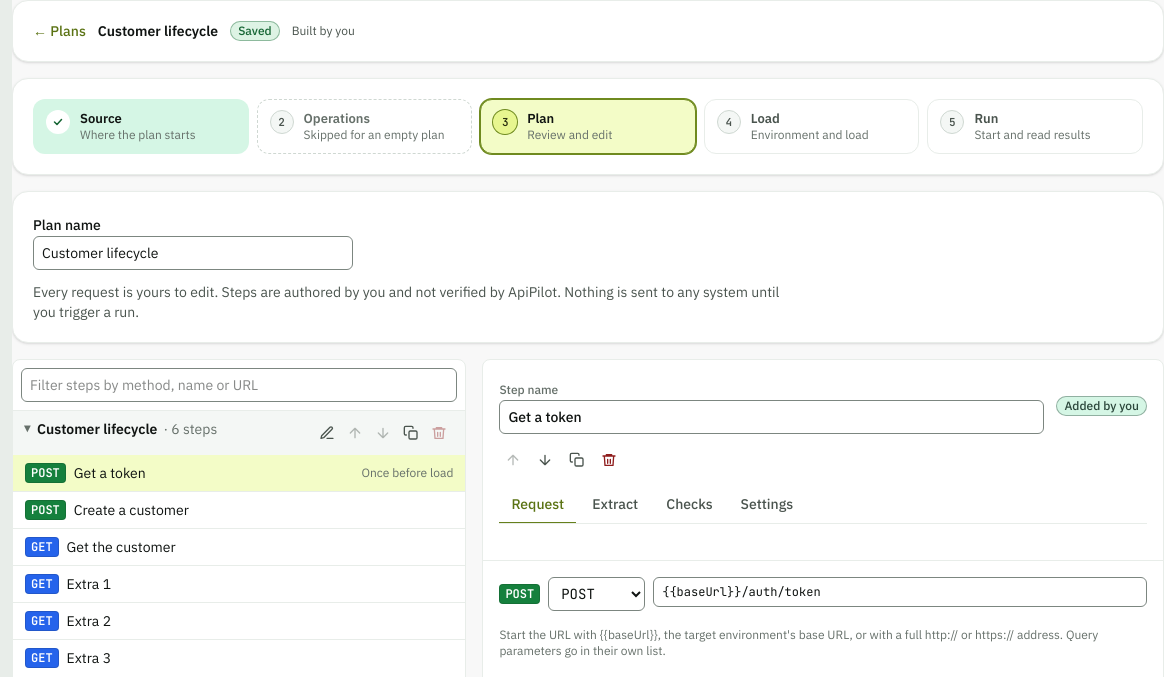
Scenario: the plan's chains on the Plan step › filters a long plan by method, name or URL
Expected: the field labelled "Plan name" is shown, left=33, top=236, right=353, bottom=270
In the search field labelled "Filter steps": (239, 385) left=21, top=368, right=457, bottom=402, type "extra/2"
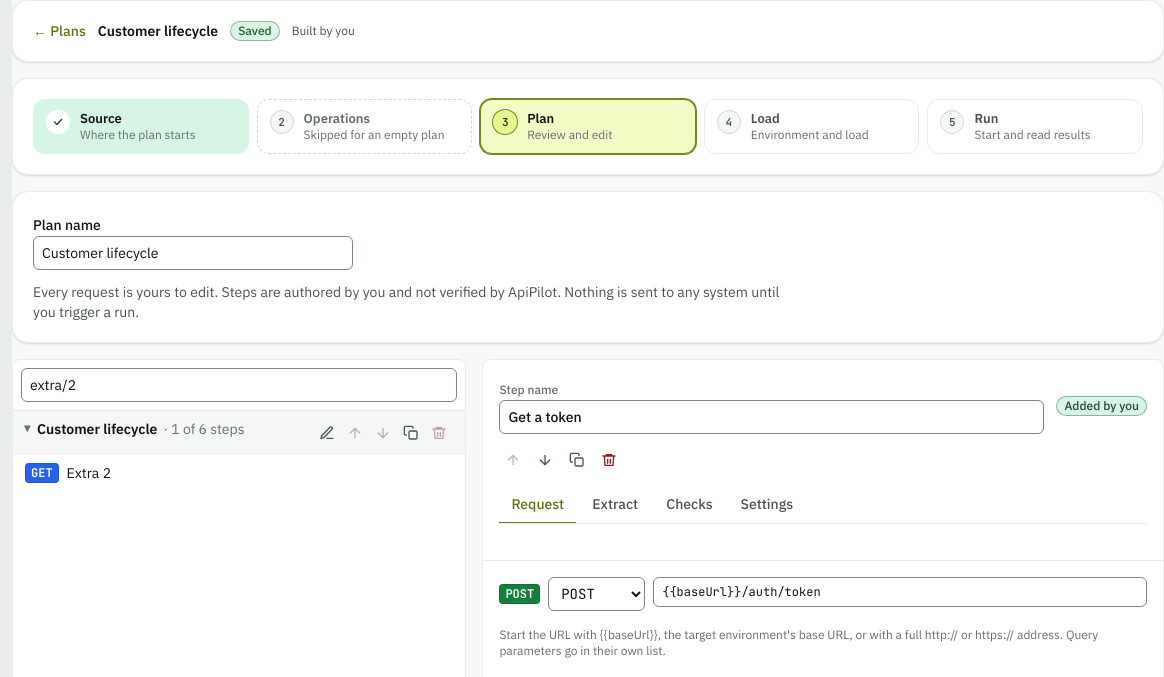
Expected: the text "Extra 2" is shown, left=67, top=464, right=111, bottom=482
Expected: the button "Extra 1" is gone
Replace the text in the search field named "Filter steps" with "nothing like this": (239, 385) left=21, top=368, right=457, bottom=402
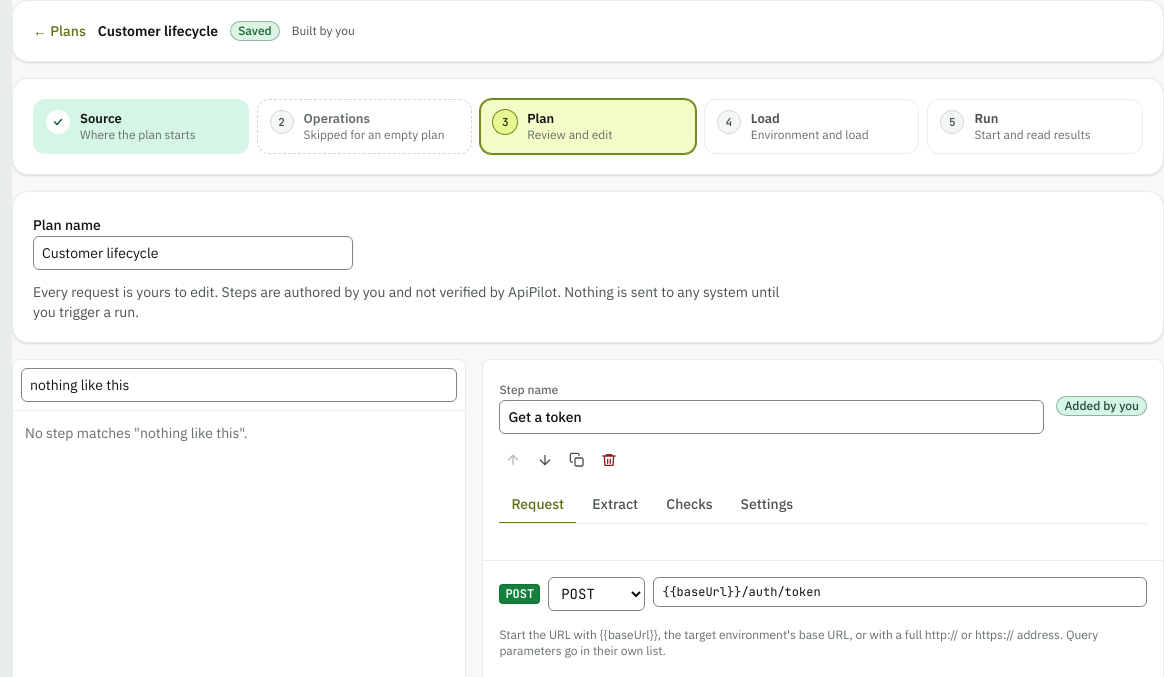
Expected: the text "No step matches \"nothing like this\"." is shown, left=25, top=424, right=248, bottom=442
